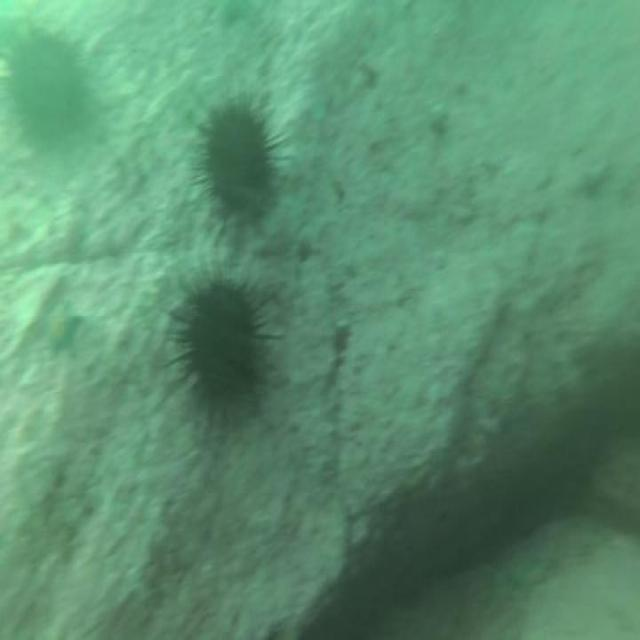echinus: (172, 266, 272, 424), (5, 14, 99, 163), (196, 94, 279, 224)
starfish: (41, 296, 86, 368)
